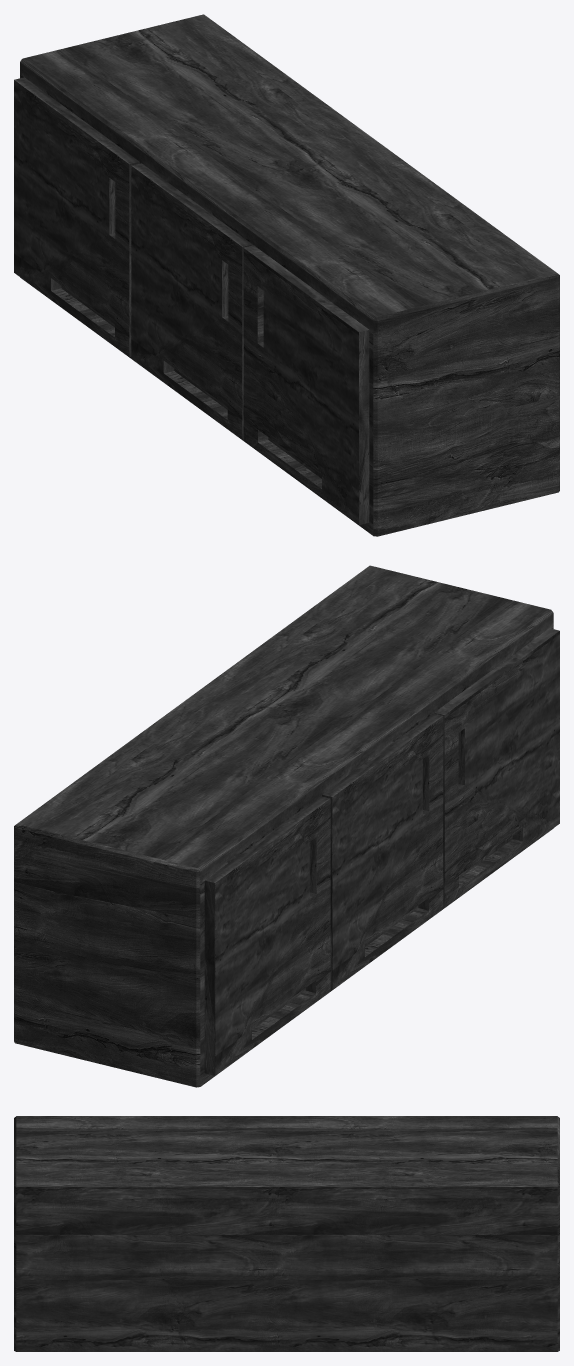
File: cupboard_1.fbx
3 views of the same model, one above another, from view 1: azimuth 30°, elevation 25°; view 2: azimuth 150°, elevation 25°; view 3: azimuth 270°, elevation 25° (orthographic). The views are drawn at different scales.
Parts seen in each view (by area): view 1: cupboard_1; view 2: cupboard_1; view 3: cupboard_1.
Part boxes in pixels (<box>): cupboard_1: <box>14,14,559,536</box>; cupboard_1: <box>14,565,559,1087</box>; cupboard_1: <box>14,1116,559,1351</box>.
Size of the model in its own units: 1.01 by 1.07 by 3.16.
